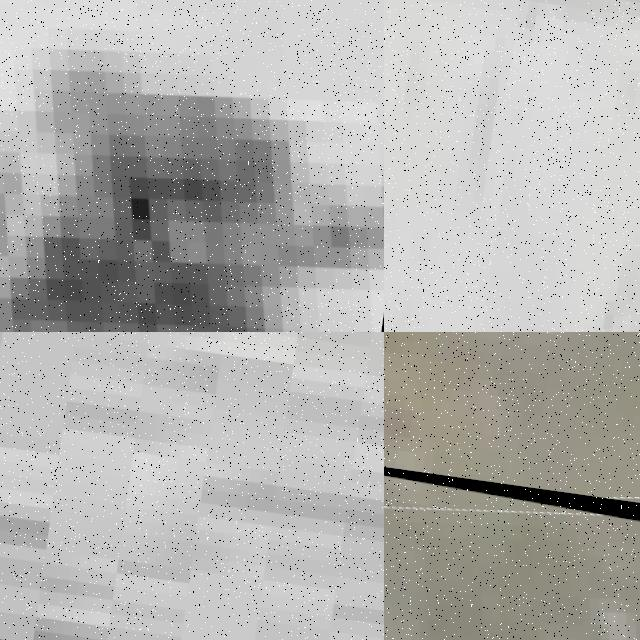drone: (0, 0, 384, 332), (384, 432, 640, 640)
